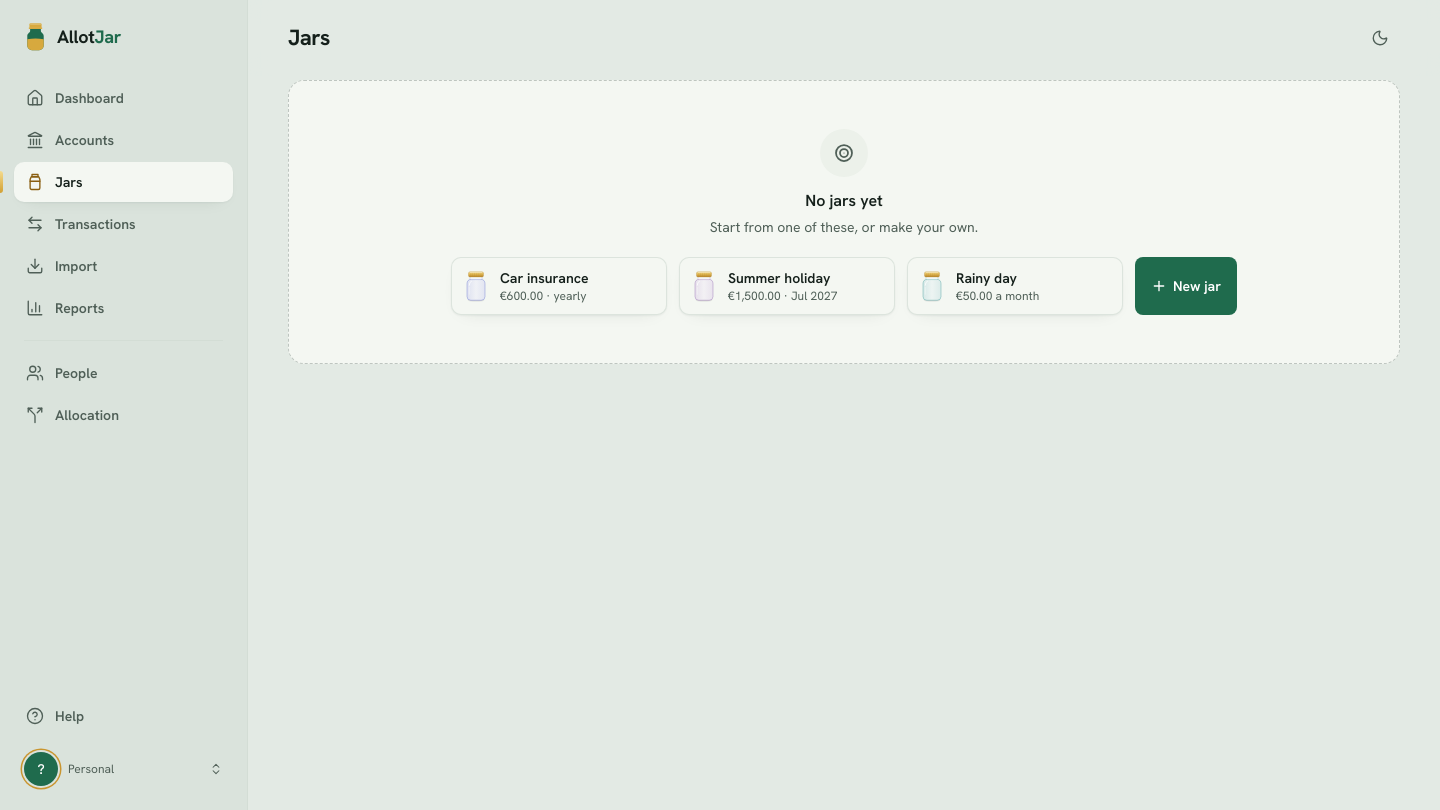
Test case: JarsPage — catalog supplemental (JAR) › JAR-016: the preview reads "Add a date or a monthly amount." when the server answers with no plan (hasSchedule false)
Click the button "New jar": (1186, 286) x1=1135 y1=257 x2=1237 y2=315
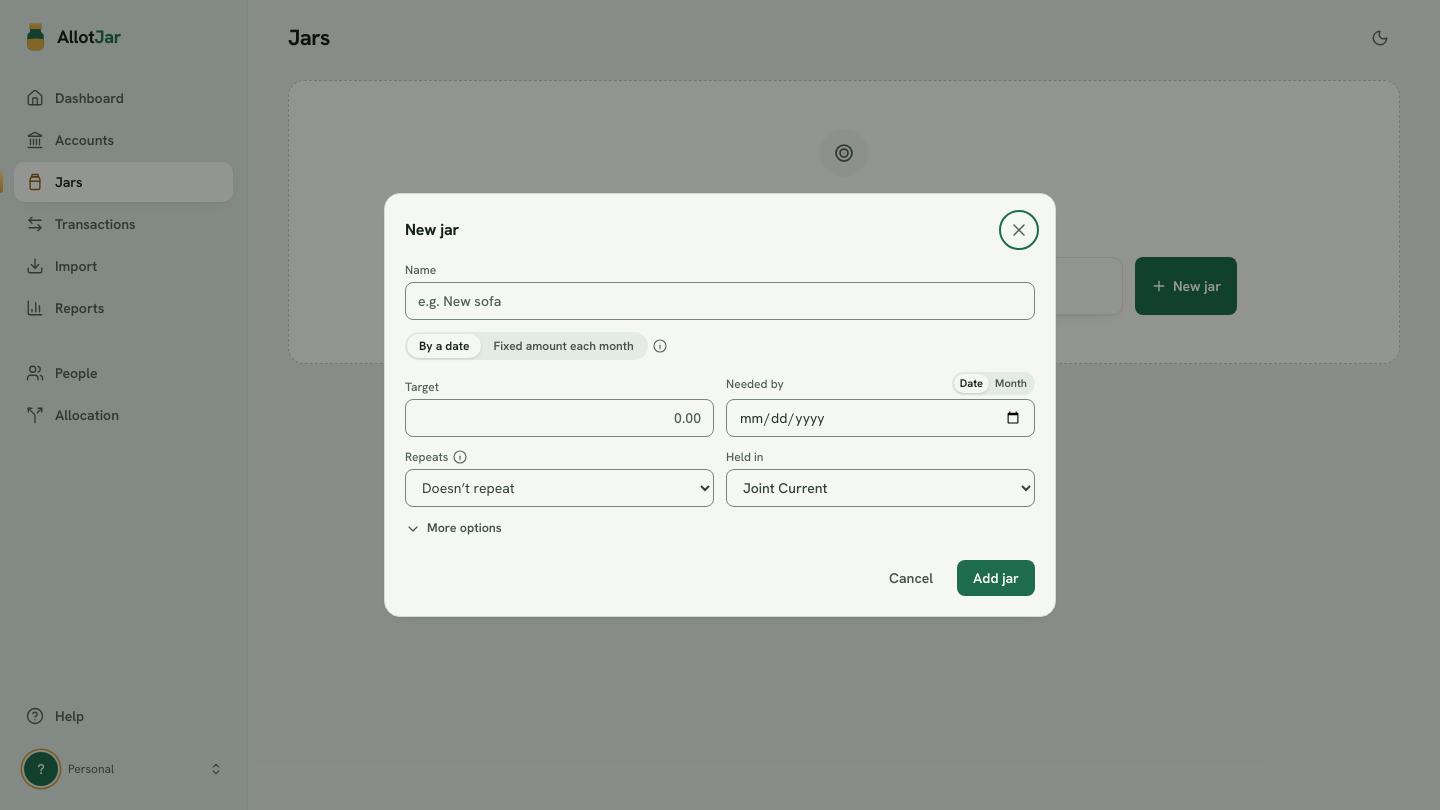
In the field named "Target amount": (560, 418) x1=405 y1=399 x2=714 y2=437, type "300"
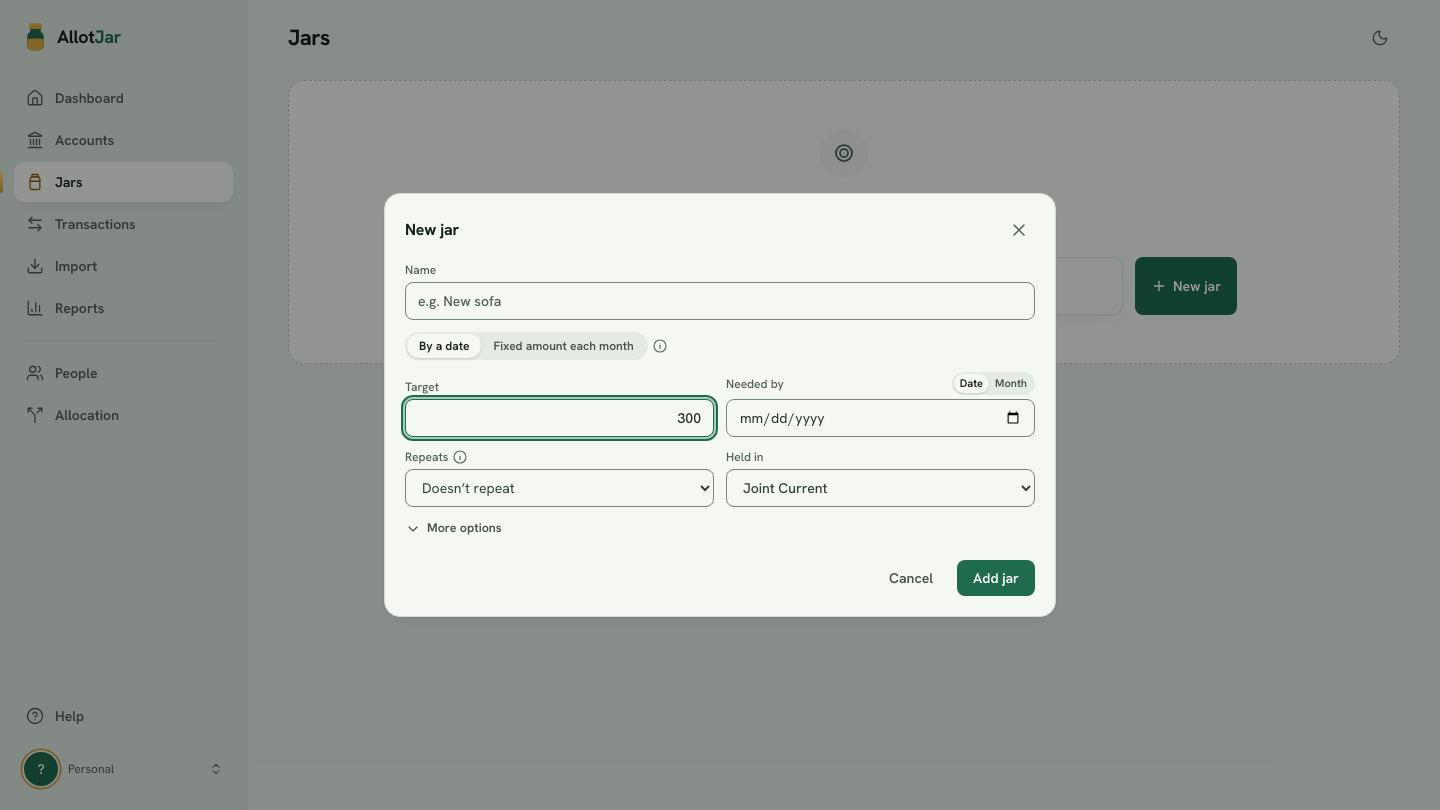
In the date field named "Needed by": (880, 418) x1=726 y1=399 x2=1035 y2=437, type "2026-12-01"
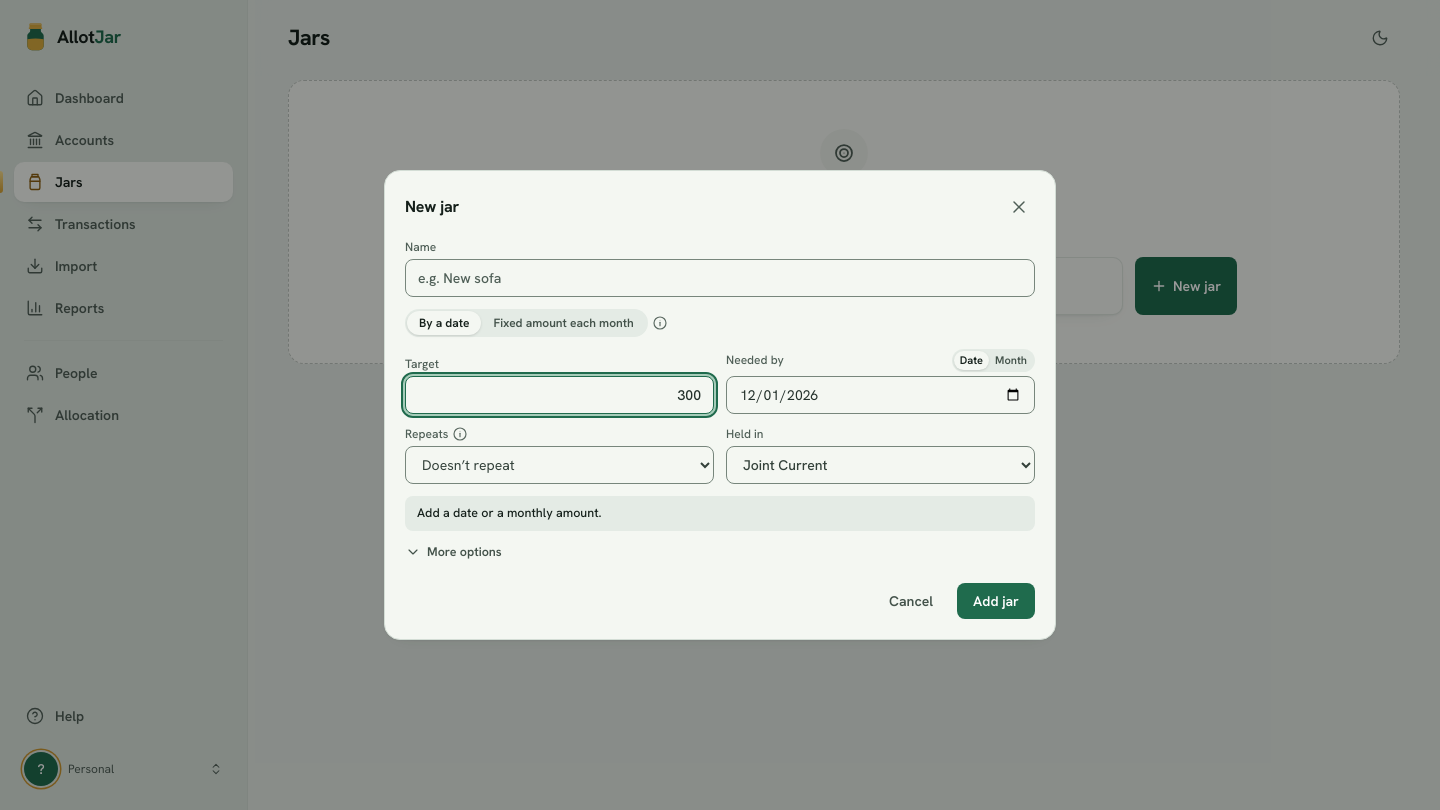
Expected: the element with test id "jar-schedule-preview" does not show "deadline", x1=405 y1=496 x2=1035 y2=531
Expected: the element with test id "jar-schedule-preview" reads "Add a date or a monthly amount.", x1=417 y1=504 x2=602 y2=521
